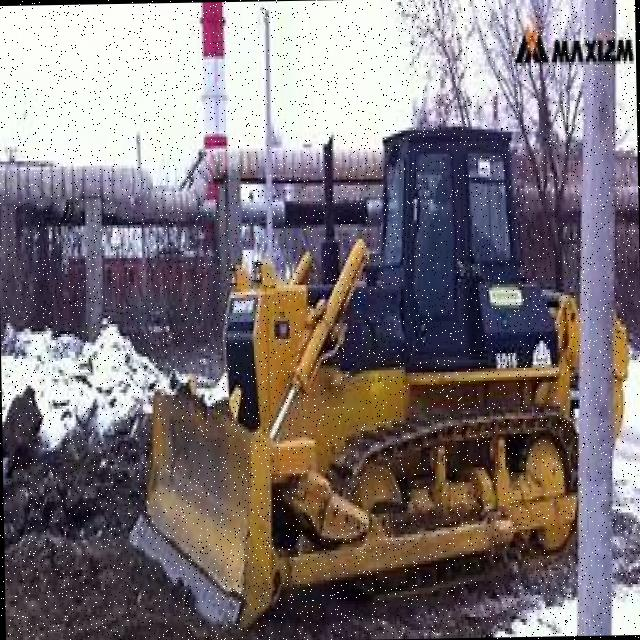Bulldozer: (108, 93, 640, 640)
